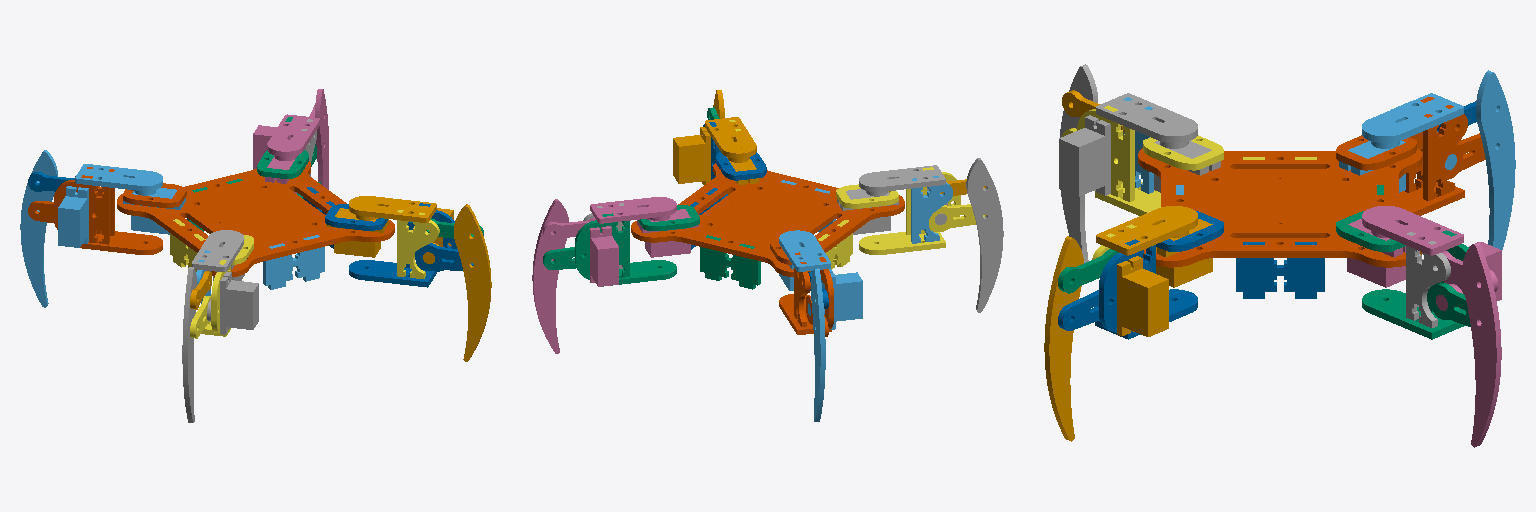
--- What the picture shows (computed from the rendered views, not written in the file) ---
The picture shows the robot from 3 angles, left to right: view 1: azimuth 30°, elevation 25°; view 2: azimuth 150°, elevation 25°; view 3: azimuth 270°, elevation 25°; orthographic projection.
Robot: quadruped — 46 links, 45 joints (24 continuous, 21 fixed); root link base_link; default pose: all joints at 0.
Links seen in each view (by area): view 1: body_top_plate_v11, leg_rev_v13, leg_rev_v14, servo_motor_v16, body_spacer_v11, servo_motor_v18, leg_top_pivot_plate_v14, leg_top_pivot_plate_v13, leg_parallel_plate_v13, leg_servo_mount_v14, leg_rev_v12, leg_top_pivot_plate_v11 (+14 smaller); view 2: body_top_plate_v11, leg_rev_v12, leg_rev_v11, servo_motor_v17, body_spacer_v12, leg_rev_v14, servo_motor_v15, leg_top_pivot_plate_v11, leg_top_pivot_plate_v12, leg_parallel_plate_v12, leg_servo_mount_v11, servo_motor_v18 (+15 smaller); view 3: body_top_plate_v11, leg_rev_v11, leg_rev_v14, leg_rev_v13, servo_motor_v16, servo_motor_v17, body_spacer_v14, leg_top_pivot_plate_v11, leg_top_pivot_plate_v13, leg_top_pivot_plate_v14, leg_top_pivot_plate_v12, leg_parallel_plate_v11 (+24 smaller).
Boxes of the visible links, x1,y1,x2,y2 form: body_top_plate_v11: (117, 161, 394, 276); leg_rev_v13: (454, 204, 491, 361); leg_rev_v14: (20, 150, 57, 307); servo_motor_v16: (207, 272, 258, 334); body_spacer_v11: (263, 235, 324, 289); servo_motor_v18: (58, 186, 88, 247); leg_top_pivot_plate_v14: (75, 164, 162, 190); leg_top_pivot_plate_v13: (349, 196, 436, 222); leg_parallel_plate_v13: (397, 210, 439, 278); leg_servo_mount_v14: (54, 175, 109, 244); leg_rev_v12: (182, 267, 196, 422); leg_top_pivot_plate_v11: (267, 114, 319, 156); body_top_plate_v11: (631, 163, 904, 276); leg_rev_v12: (966, 158, 1003, 312); leg_rev_v11: (532, 199, 568, 353); servo_motor_v17: (673, 127, 710, 184); body_spacer_v12: (700, 235, 760, 289); leg_rev_v14: (811, 268, 825, 421); servo_motor_v15: (590, 226, 618, 286); leg_top_pivot_plate_v11: (590, 197, 676, 223); leg_top_pivot_plate_v12: (859, 165, 945, 191); leg_parallel_plate_v12: (911, 176, 952, 243); leg_servo_mount_v11: (575, 213, 629, 279); servo_motor_v18: (808, 269, 862, 329); body_top_plate_v11: (1138, 148, 1421, 267); leg_rev_v11: (1462, 242, 1501, 447); leg_rev_v14: (1476, 70, 1515, 249); leg_rev_v13: (1044, 236, 1083, 441); servo_motor_v16: (1059, 115, 1110, 196); servo_motor_v17: (1117, 256, 1168, 336); body_spacer_v14: (1236, 242, 1324, 298); leg_top_pivot_plate_v11: (1362, 206, 1463, 255); leg_top_pivot_plate_v13: (1096, 206, 1197, 255); leg_top_pivot_plate_v14: (1362, 93, 1463, 142); leg_top_pivot_plate_v12: (1096, 93, 1197, 142); leg_parallel_plate_v11: (1406, 232, 1450, 327).
Size in the robot's own frame: 0.2024 by 0.2023 by 0.0962 metres.
Meshes: 46 distinct files referenced, 45 mesh visuals loaded (45 binary STL); not drawn: 1 (reference not matched to a file when rendering).

The robot description file, URDF, robot "quadruped":
<?xml version="1.0" ?>
<robot name="quadruped">

<material name="silver">
  <color rgba="0.700 0.700 0.700 1.000"/>
</material>

<link name="base_link">
  <inertial>
    <origin rpy="0 0 0" xyz="9.059146598001685e-07 0.0015934023756066099 0.049996155576494214"/>
    <mass value="0.1660035395213305"/>
    <inertia ixx="0.00025709826617585223" ixy="4.218846787590979e-09" ixz="1.879354351720479e-20" iyy="0.0002571008959510167" iyz="-3.5575383784680614e-20" izz="0.0005139180584769373"/>
  </inertial>
  <visual>
    <origin rpy="0 0 0" xyz="0 0 0"/>
    <geometry>
      <mesh filename="meshes/base_link.stl" scale="0.001 0.001 0.001"/>
    </geometry>
    <material name="silver"/>
    <material/>
  </visual>
  <collision>
    <origin rpy="0 0 0" xyz="0 0 0"/>
    <geometry>
      <mesh filename="meshes/base_link.stl" scale="0.001 0.001 0.001"/>
    </geometry>
  </collision>
</link>

<link name="body_spacer_v11">
  <inertial>
    <origin rpy="0 0 0" xyz="-2.3037127760971997e-17 3.4442350579921843e-07 0.0019124056524901095"/>
    <mass value="0.01987438429408557"/>
    <inertia ixx="9.045460492552543e-07" ixy="1.187813172238301e-22" ixz="3.208094714967838e-22" iyy="3.5199940199070806e-06" iyz="1.3552527156068805e-20" izz="2.6491024456185857e-06"/>
  </inertial>
  <visual>
    <origin rpy="0 0 0" xyz="0.0 0.041434 -0.05924"/>
    <geometry>
      <mesh filename="meshes/body_spacer_v11.stl" scale="0.001 0.001 0.001"/>
    </geometry>
    <material name="silver"/>
    <material/>
  </visual>
  <collision>
    <origin rpy="0 0 0" xyz="0.0 0.041434 -0.05924"/>
    <geometry>
      <mesh filename="meshes/body_spacer_v11.stl" scale="0.001 0.001 0.001"/>
    </geometry>
  </collision>
</link>

<link name="body_spacer_v12">
  <inertial>
    <origin rpy="0 0 0" xyz="-1.762479051592436e-17 0.08606284442350577 0.0019124056524901373"/>
    <mass value="0.01987438429408557"/>
    <inertia ixx="9.045460492552407e-07" ixy="1.1536192923691965e-22" ixz="1.9841293516984235e-22" iyy="3.5199940199070806e-06" iyz="6.776263578034403e-21" izz="2.649102445618572e-06"/>
  </inertial>
  <visual>
    <origin rpy="0 0 0" xyz="0.0 0.041434 -0.05924"/>
    <geometry>
      <mesh filename="meshes/body_spacer_v12.stl" scale="0.001 0.001 0.001"/>
    </geometry>
    <material name="silver"/>
    <material/>
  </visual>
  <collision>
    <origin rpy="0 0 0" xyz="0.0 0.041434 -0.05924"/>
    <geometry>
      <mesh filename="meshes/body_spacer_v12.stl" scale="0.001 0.001 0.001"/>
    </geometry>
  </collision>
</link>

<link name="body_spacer_v13">
  <inertial>
    <origin rpy="0 0 0" xyz="-0.04303125000000001 0.04303159442350578 0.0019124056524901165"/>
    <mass value="0.01987438429408557"/>
    <inertia ixx="3.5199940199070806e-06" ixy="2.117582368135751e-22" ixz="-6.776263578034403e-21" iyy="9.045460492552678e-07" iyz="-1.2705494208814505e-21" izz="2.649102445618572e-06"/>
  </inertial>
  <visual>
    <origin rpy="0 0 0" xyz="0.0 0.041434 -0.05924"/>
    <geometry>
      <mesh filename="meshes/body_spacer_v13.stl" scale="0.001 0.001 0.001"/>
    </geometry>
    <material name="silver"/>
    <material/>
  </visual>
  <collision>
    <origin rpy="0 0 0" xyz="0.0 0.041434 -0.05924"/>
    <geometry>
      <mesh filename="meshes/body_spacer_v13.stl" scale="0.001 0.001 0.001"/>
    </geometry>
  </collision>
</link>

<link name="body_spacer_v14">
  <inertial>
    <origin rpy="0 0 0" xyz="0.04303124999999997 0.04303159442350577 0.0019124056524901165"/>
    <mass value="0.01987438429408557"/>
    <inertia ixx="3.5199940199070806e-06" ixy="4.235164736271502e-22" ixz="0.0" iyy="9.045460492552543e-07" iyz="-1.2705494208814505e-21" izz="2.6491024456185653e-06"/>
  </inertial>
  <visual>
    <origin rpy="0 0 0" xyz="0.0 0.041434 -0.05924"/>
    <geometry>
      <mesh filename="meshes/body_spacer_v14.stl" scale="0.001 0.001 0.001"/>
    </geometry>
    <material name="silver"/>
    <material/>
  </visual>
  <collision>
    <origin rpy="0 0 0" xyz="0.0 0.041434 -0.05924"/>
    <geometry>
      <mesh filename="meshes/body_spacer_v14.stl" scale="0.001 0.001 0.001"/>
    </geometry>
  </collision>
</link>

<link name="body_top_plate_v11">
  <inertial>
    <origin rpy="0 0 0" xyz="-6.217287019304255e-06 -7.919011395336392e-07 -0.0015933444235057687"/>
    <mass value="0.2442521638475155"/>
    <inertia ixx="0.00024636058368875027" ixy="-1.5462840425163707e-08" ixz="3.801060350803673e-20" iyy="0.00023570693205579888" iyz="-2.0328790734103208e-20" izz="0.0004816539090530351"/>
  </inertial>
  <visual>
    <origin rpy="0 0 0" xyz="1e-05 -0.001603 -0.073902"/>
    <geometry>
      <mesh filename="meshes/body_top_plate_v11.stl" scale="0.001 0.001 0.001"/>
    </geometry>
    <material name="silver"/>
    <material/>
  </visual>
  <collision>
    <origin rpy="0 0 0" xyz="1e-05 -0.001603 -0.073902"/>
    <geometry>
      <mesh filename="meshes/body_top_plate_v11.stl" scale="0.001 0.001 0.001"/>
    </geometry>
  </collision>
</link>

<link name="servo_motor_v11">
  <inertial>
    <origin rpy="0 0 0" xyz="-0.0034453069163115357 -0.003444709272821242 -0.017291510897469234"/>
    <mass value="0.008039754705757893"/>
    <inertia ixx="6.933505671789865e-07" ixy="-1.5816887278955772e-07" ixz="-3.5143282431257484e-08" iyy="6.933505682155583e-07" iyz="-3.514328063131586e-08" izz="5.198658008256423e-07"/>
  </inertial>
  <visual>
    <origin rpy="0 0 0" xyz="-0.045406 -0.047003 -0.088004"/>
    <geometry>
      <mesh filename="meshes/servo_motor_v11.stl" scale="0.001 0.001 0.001"/>
    </geometry>
    <material name="silver"/>
    <material/>
  </visual>
  <collision>
    <origin rpy="0 0 0" xyz="-0.045406 -0.047003 -0.088004"/>
    <geometry>
      <mesh filename="meshes/servo_motor_v11.stl" scale="0.001 0.001 0.001"/>
    </geometry>
  </collision>
</link>

<link name="servo_motor_v12">
  <inertial>
    <origin rpy="0 0 0" xyz="-0.08736671792043224 -0.08736325662822253 -0.017291510897469248"/>
    <mass value="0.008039754705757893"/>
    <inertia ixx="6.933505671789865e-07" ixy="-1.5816887278954925e-07" ixz="3.5143282431257484e-08" iyy="6.933505682155651e-07" iyz="3.514328063131247e-08" izz="5.198658008256288e-07"/>
  </inertial>
  <visual>
    <origin rpy="0 0 0" xyz="-0.045406 -0.047003 -0.088004"/>
    <geometry>
      <mesh filename="meshes/servo_motor_v12.stl" scale="0.001 0.001 0.001"/>
    </geometry>
    <material name="silver"/>
    <material/>
  </visual>
  <collision>
    <origin rpy="0 0 0" xyz="-0.045406 -0.047003 -0.088004"/>
    <geometry>
      <mesh filename="meshes/servo_motor_v12.stl" scale="0.001 0.001 0.001"/>
    </geometry>
  </collision>
</link>

<link name="servo_motor_v13">
  <inertial>
    <origin rpy="0 0 0" xyz="-0.0034453067361639236 -0.08736610170001957 -0.01729151089746929"/>
    <mass value="0.008039754705757893"/>
    <inertia ixx="6.933505682155583e-07" ixy="1.581688727895594e-07" ixz="-3.514328063131586e-08" iyy="6.933505671789865e-07" iyz="3.514328243126087e-08" izz="5.198658008256423e-07"/>
  </inertial>
  <visual>
    <origin rpy="0 0 0" xyz="-0.045406 -0.047003 -0.088004"/>
    <geometry>
      <mesh filename="meshes/servo_motor_v13.stl" scale="0.001 0.001 0.001"/>
    </geometry>
    <material name="silver"/>
    <material/>
  </visual>
  <collision>
    <origin rpy="0 0 0" xyz="-0.045406 -0.047003 -0.088004"/>
    <geometry>
      <mesh filename="meshes/servo_motor_v13.stl" scale="0.001 0.001 0.001"/>
    </geometry>
  </collision>
</link>

<link name="servo_motor_v14">
  <inertial>
    <origin rpy="0 0 0" xyz="-0.08736671810057986 -0.0035677266622682127 -0.017291510897469248"/>
    <mass value="0.008039754705757893"/>
    <inertia ixx="6.933505682155447e-07" ixy="1.5816887278955433e-07" ixz="3.514328063131586e-08" iyy="6.933505671789865e-07" iyz="-3.5143282431257484e-08" izz="5.198658008256389e-07"/>
  </inertial>
  <visual>
    <origin rpy="0 0 0" xyz="-0.045406 -0.047003 -0.088004"/>
    <geometry>
      <mesh filename="meshes/servo_motor_v14.stl" scale="0.001 0.001 0.001"/>
    </geometry>
    <material name="silver"/>
    <material/>
  </visual>
  <collision>
    <origin rpy="0 0 0" xyz="-0.045406 -0.047003 -0.088004"/>
    <geometry>
      <mesh filename="meshes/servo_motor_v14.stl" scale="0.001 0.001 0.001"/>
    </geometry>
  </collision>
</link>

<link name="leg_servo_retainer_v11">
  <inertial>
    <origin rpy="0 0 0" xyz="0.007924108380789864 0.007923419580222718 -3.4442350579921843e-07"/>
    <mass value="0.011735752466802122"/>
    <inertia ixx="1.0587162227223e-06" ixy="-2.4853849465264854e-07" ixz="-6.776263578034403e-21" iyy="1.0584789299731293e-06" iyz="0.0" izz="2.0973223062330845e-06"/>
  </inertial>
  <visual>
    <origin rpy="0 0 0" xyz="-0.033325 -0.034922 -0.078684"/>
    <geometry>
      <mesh filename="meshes/leg_servo_retainer_v11.stl" scale="0.001 0.001 0.001"/>
    </geometry>
    <material name="silver"/>
    <material/>
  </visual>
  <collision>
    <origin rpy="0 0 0" xyz="-0.033325 -0.034922 -0.078684"/>
    <geometry>
      <mesh filename="meshes/leg_servo_retainer_v11.stl" scale="0.001 0.001 0.001"/>
    </geometry>
  </collision>
</link>

<link name="leg_servo_retainer_v12">
  <inertial>
    <origin rpy="0 0 0" xyz="-0.07457413321753362 -0.07456938548126654 -3.444235058408518e-07"/>
    <mass value="0.011735752466802122"/>
    <inertia ixx="1.0587162227223136e-06" ixy="-2.485384946526519e-07" ixz="0.0" iyy="1.0584789299731293e-06" iyz="-6.776263578034403e-21" izz="2.0973223062330845e-06"/>
  </inertial>
  <visual>
    <origin rpy="0 0 0" xyz="-0.033325 -0.034922 -0.078684"/>
    <geometry>
      <mesh filename="meshes/leg_servo_retainer_v12.stl" scale="0.001 0.001 0.001"/>
    </geometry>
    <material name="silver"/>
    <material/>
  </visual>
  <collision>
    <origin rpy="0 0 0" xyz="-0.033325 -0.034922 -0.078684"/>
    <geometry>
      <mesh filename="meshes/leg_servo_retainer_v12.stl" scale="0.001 0.001 0.001"/>
    </geometry>
  </collision>
</link>

<link name="leg_servo_retainer_v13">
  <inertial>
    <origin rpy="0 0 0" xyz="0.007922822116880023 -0.07457351699712099 -3.444235058547296e-07"/>
    <mass value="0.011735752466802122"/>
    <inertia ixx="1.0584789299731428e-06" ixy="2.485384946526519e-07" ixz="0.0" iyy="1.0587162227222865e-06" iyz="-6.776263578034403e-21" izz="2.0973223062330912e-06"/>
  </inertial>
  <visual>
    <origin rpy="0 0 0" xyz="-0.033325 -0.034922 -0.078684"/>
    <geometry>
      <mesh filename="meshes/leg_servo_retainer_v13.stl" scale="0.001 0.001 0.001"/>
    </geometry>
    <material name="silver"/>
    <material/>
  </visual>
  <collision>
    <origin rpy="0 0 0" xyz="-0.033325 -0.034922 -0.078684"/>
    <geometry>
      <mesh filename="meshes/leg_servo_retainer_v13.stl" scale="0.001 0.001 0.001"/>
    </geometry>
  </collision>
</link>

<link name="leg_servo_retainer_v14">
  <inertial>
    <origin rpy="0 0 0" xyz="-0.07457284695362379 0.007801688634833152 -3.444235058130962e-07"/>
    <mass value="0.011735752466802122"/>
    <inertia ixx="1.0584789299731157e-06" ixy="2.4853849465264515e-07" ixz="0.0" iyy="1.0587162227222594e-06" iyz="0.0" izz="2.0973223062330777e-06"/>
  </inertial>
  <visual>
    <origin rpy="0 0 0" xyz="-0.033325 -0.034922 -0.078684"/>
    <geometry>
      <mesh filename="meshes/leg_servo_retainer_v14.stl" scale="0.001 0.001 0.001"/>
    </geometry>
    <material name="silver"/>
    <material/>
  </visual>
  <collision>
    <origin rpy="0 0 0" xyz="-0.033325 -0.034922 -0.078684"/>
    <geometry>
      <mesh filename="meshes/leg_servo_retainer_v14.stl" scale="0.001 0.001 0.001"/>
    </geometry>
  </collision>
</link>

<link name="leg_top_pivot_plate_v11">
  <inertial>
    <origin rpy="0 0 0" xyz="0.010648424399168653 0.010577698071700968 -0.0015938444235058108"/>
    <mass value="0.020723046160568363"/>
    <inertia ixx="2.208794909615877e-06" ixy="-1.4903944877974097e-06" ixz="-2.710505431213761e-20" iyy="2.2591948027366653e-06" iyz="-1.3552527156068805e-20" izz="4.432898147857994e-06"/>
  </inertial>
  <visual>
    <origin rpy="0 0 0" xyz="-0.045406 -0.047003 -0.088004"/>
    <geometry>
      <mesh filename="meshes/leg_top_pivot_plate_v11.stl" scale="0.001 0.001 0.001"/>
    </geometry>
    <material name="silver"/>
    <material/>
  </visual>
  <collision>
    <origin rpy="0 0 0" xyz="-0.045406 -0.047003 -0.088004"/>
    <geometry>
      <mesh filename="meshes/leg_top_pivot_plate_v11.stl" scale="0.001 0.001 0.001"/>
    </geometry>
  </collision>
</link>

<link name="leg_top_pivot_plate_v12">
  <inertial>
    <origin rpy="0 0 0" xyz="-0.10146044923591255 -0.1013856639727447 -0.0015938444235058524"/>
    <mass value="0.020723046160568363"/>
    <inertia ixx="2.2087949096158226e-06" ixy="-1.4903944877974097e-06" ixz="-2.710505431213761e-20" iyy="2.259194802736557e-06" iyz="-1.3552527156068805e-20" izz="4.432898147857967e-06"/>
  </inertial>
  <visual>
    <origin rpy="0 0 0" xyz="-0.045406 -0.047003 -0.088004"/>
    <geometry>
      <mesh filename="meshes/leg_top_pivot_plate_v12.stl" scale="0.001 0.001 0.001"/>
    </geometry>
    <material name="silver"/>
    <material/>
  </visual>
  <collision>
    <origin rpy="0 0 0" xyz="-0.045406 -0.047003 -0.088004"/>
    <geometry>
      <mesh filename="meshes/leg_top_pivot_plate_v12.stl" scale="0.001 0.001 0.001"/>
    </geometry>
  </collision>
</link>

<link name="leg_top_pivot_plate_v13">
  <inertial>
    <origin rpy="0 0 0" xyz="0.010577100608358335 -0.10145983301549982 -0.001593844423505894"/>
    <mass value="0.020723046160568363"/>
    <inertia ixx="2.2591948027366653e-06" ixy="1.4903944877974233e-06" ixz="0.0" iyy="2.208794909615931e-06" iyz="0.0" izz="4.432898147857967e-06"/>
  </inertial>
  <visual>
    <origin rpy="0 0 0" xyz="-0.045406 -0.047003 -0.088004"/>
    <geometry>
      <mesh filename="meshes/leg_top_pivot_plate_v13.stl" scale="0.001 0.001 0.001"/>
    </geometry>
    <material name="silver"/>
    <material/>
  </visual>
  <collision>
    <origin rpy="0 0 0" xyz="-0.045406 -0.047003 -0.088004"/>
    <geometry>
      <mesh filename="meshes/leg_top_pivot_plate_v13.stl" scale="0.001 0.001 0.001"/>
    </geometry>
  </collision>
</link>

<link name="leg_top_pivot_plate_v14">
  <inertial>
    <origin rpy="0 0 0" xyz="-0.10138912544510212 0.010526004653212018 -0.0015938444235058247"/>
    <mass value="0.020723046160568363"/>
    <inertia ixx="2.2591948027367195e-06" ixy="1.4903944877974233e-06" ixz="2.710505431213761e-20" iyy="2.208794909615931e-06" iyz="0.0" izz="4.432898147857994e-06"/>
  </inertial>
  <visual>
    <origin rpy="0 0 0" xyz="-0.045406 -0.047003 -0.088004"/>
    <geometry>
      <mesh filename="meshes/leg_top_pivot_plate_v14.stl" scale="0.001 0.001 0.001"/>
    </geometry>
    <material name="silver"/>
    <material/>
  </visual>
  <collision>
    <origin rpy="0 0 0" xyz="-0.045406 -0.047003 -0.088004"/>
    <geometry>
      <mesh filename="meshes/leg_top_pivot_plate_v14.stl" scale="0.001 0.001 0.001"/>
    </geometry>
  </collision>
</link>

<link name="leg_servo_mount_v11">
  <inertial>
    <origin rpy="0 0 0" xyz="0.006427091482037052 0.006426612462751641 -0.009351515125044133"/>
    <mass value="0.018978192167657257"/>
    <inertia ixx="3.4099288150504596e-06" ixy="-8.932533906415378e-07" ixz="-2.5996070057598855e-08" iyy="3.4099288150504867e-06" iyz="-2.599607005762596e-08" izz="1.818643680910739e-06"/>
  </inertial>
  <visual>
    <origin rpy="0 0 0" xyz="-0.058289 -0.069083 -0.076529"/>
    <geometry>
      <mesh filename="meshes/leg_servo_mount_v11.stl" scale="0.001 0.001 0.001"/>
    </geometry>
    <material name="silver"/>
    <material/>
  </visual>
  <collision>
    <origin rpy="0 0 0" xyz="-0.058289 -0.069083 -0.076529"/>
    <geometry>
      <mesh filename="meshes/leg_servo_mount_v11.stl" scale="0.001 0.001 0.001"/>
    </geometry>
  </collision>
</link>

<link name="leg_servo_mount_v12">
  <inertial>
    <origin rpy="0 0 0" xyz="-0.12300511631878094 -0.14139457836379538 -0.009351515125044202"/>
    <mass value="0.018978192167657257"/>
    <inertia ixx="3.4099288150504867e-06" ixy="-8.932533906415378e-07" ixz="2.5996070057612407e-08" iyy="3.4099288150504596e-06" iyz="2.599607005762596e-08" izz="1.818643680910739e-06"/>
  </inertial>
  <visual>
    <origin rpy="0 0 0" xyz="-0.058289 -0.069083 -0.076529"/>
    <geometry>
      <mesh filename="meshes/leg_servo_mount_v12.stl" scale="0.001 0.001 0.001"/>
    </geometry>
    <material name="silver"/>
    <material/>
  </visual>
  <collision>
    <origin rpy="0 0 0" xyz="-0.058289 -0.069083 -0.076529"/>
    <geometry>
      <mesh filename="meshes/leg_servo_mount_v12.stl" scale="0.001 0.001 0.001"/>
    </geometry>
  </collision>
</link>

<link name="leg_servo_mount_v13">
  <inertial>
    <origin rpy="0 0 0" xyz="0.015623014999408984 -0.13220150009836815 -0.009351515125044257"/>
    <mass value="0.018978192167657257"/>
    <inertia ixx="3.4099288150504325e-06" ixy="8.932533906415242e-07" ixz="-2.5996070057612407e-08" iyy="3.4099288150504596e-06" iyz="2.5996070057612407e-08" izz="1.818643680910739e-06"/>
  </inertial>
  <visual>
    <origin rpy="0 0 0" xyz="-0.058289 -0.069083 -0.076529"/>
    <geometry>
      <mesh filename="meshes/leg_servo_mount_v13.stl" scale="0.001 0.001 0.001"/>
    </geometry>
    <material name="silver"/>
    <material/>
  </visual>
  <collision>
    <origin rpy="0 0 0" xyz="-0.058289 -0.069083 -0.076529"/>
    <geometry>
      <mesh filename="meshes/leg_servo_mount_v13.stl" scale="0.001 0.001 0.001"/>
    </geometry>
  </collision>
</link>

<link name="leg_servo_mount_v14">
  <inertial>
    <origin rpy="0 0 0" xyz="-0.132201039836153 -0.002892328263919511 -0.009351515125044133"/>
    <mass value="0.018978192167657257"/>
    <inertia ixx="3.4099288150504867e-06" ixy="8.932533906415242e-07" ixz="2.5996070057639513e-08" iyy="3.4099288150504867e-06" iyz="-2.5996070057639513e-08" izz="1.818643680910712e-06"/>
  </inertial>
  <visual>
    <origin rpy="0 0 0" xyz="-0.058289 -0.069083 -0.076529"/>
    <geometry>
      <mesh filename="meshes/leg_servo_mount_v14.stl" scale="0.001 0.001 0.001"/>
    </geometry>
    <material name="silver"/>
    <material/>
  </visual>
  <collision>
    <origin rpy="0 0 0" xyz="-0.058289 -0.069083 -0.076529"/>
    <geometry>
      <mesh filename="meshes/leg_servo_mount_v14.stl" scale="0.001 0.001 0.001"/>
    </geometry>
  </collision>
</link>

<link name="servo_motor_v15">
  <inertial>
    <origin rpy="0 0 0" xyz="0.027946655456124396 0.04841610817225183 -0.013934864453551216"/>
    <mass value="0.008039754705757893"/>
    <inertia ixx="6.856926219289921e-07" ixy="1.658268198306015e-07" ixz="3.5143281164800927e-08" iyy="6.856926193835023e-07" iyz="-3.5143281897775805e-08" izz="5.351816949077299e-07"/>
  </inertial>
  <visual>
    <origin rpy="0 0 0" xyz="-0.033325 -0.034922 -0.078684"/>
    <geometry>
      <mesh filename="meshes/servo_motor_v15.stl" scale="0.001 0.001 0.001"/>
    </geometry>
    <material name="silver"/>
    <material/>
  </visual>
  <collision>
    <origin rpy="0 0 0" xyz="-0.033325 -0.034922 -0.078684"/>
    <geometry>
      <mesh filename="meshes/servo_motor_v15.stl" scale="0.001 0.001 0.001"/>
    </geometry>
  </collision>
</link>

<link name="servo_motor_v16">
  <inertial>
    <origin rpy="0 0 0" xyz="-0.09459668029286844 -0.11506207407329555 -0.013934864453551313"/>
    <mass value="0.008039754705757893"/>
    <inertia ixx="6.856926219289921e-07" ixy="1.6582681983059474e-07" ixz="-3.5143281164800927e-08" iyy="6.856926193834752e-07" iyz="3.514328189776225e-08" izz="5.351816949077164e-07"/>
  </inertial>
  <visual>
    <origin rpy="0 0 0" xyz="-0.033325 -0.034922 -0.078684"/>
    <geometry>
      <mesh filename="meshes/servo_motor_v16.stl" scale="0.001 0.001 0.001"/>
    </geometry>
    <material name="silver"/>
    <material/>
  </visual>
  <collision>
    <origin rpy="0 0 0" xyz="-0.033325 -0.034922 -0.078684"/>
    <geometry>
      <mesh filename="meshes/servo_motor_v16.stl" scale="0.001 0.001 0.001"/>
    </geometry>
  </collision>
</link>

<link name="servo_motor_v17">
  <inertial>
    <origin rpy="0 0 0" xyz="0.048415510708909044 -0.09459606407245555 -0.013934864453551354"/>
    <mass value="0.008039754705757893"/>
    <inertia ixx="6.856926193835023e-07" ixy="-1.658268198306015e-07" ixz="-3.514328189776225e-08" iyy="6.85692621928965e-07" iyz="-3.5143281164800927e-08" izz="5.351816949077028e-07"/>
  </inertial>
  <visual>
    <origin rpy="0 0 0" xyz="-0.033325 -0.034922 -0.078684"/>
    <geometry>
      <mesh filename="meshes/servo_motor_v17.stl" scale="0.001 0.001 0.001"/>
    </geometry>
    <material name="silver"/>
    <material/>
  </visual>
  <collision>
    <origin rpy="0 0 0" xyz="-0.033325 -0.034922 -0.078684"/>
    <geometry>
      <mesh filename="meshes/servo_motor_v17.stl" scale="0.001 0.001 0.001"/>
    </geometry>
  </collision>
</link>

<link name="servo_motor_v18">
  <inertial>
    <origin rpy="0 0 0" xyz="-0.11506553554565327 0.027824235710167892 -0.013934864453551118"/>
    <mass value="0.008039754705757893"/>
    <inertia ixx="6.856926193834752e-07" ixy="-1.658268198306015e-07" ixz="3.514328189778258e-08" iyy="6.856926219289921e-07" iyz="3.5143281164800927e-08" izz="5.351816949077164e-07"/>
  </inertial>
  <visual>
    <origin rpy="0 0 0" xyz="-0.033325 -0.034922 -0.078684"/>
    <geometry>
      <mesh filename="meshes/servo_motor_v18.stl" scale="0.001 0.001 0.001"/>
    </geometry>
    <material name="silver"/>
    <material/>
  </visual>
  <collision>
    <origin rpy="0 0 0" xyz="-0.033325 -0.034922 -0.078684"/>
    <geometry>
      <mesh filename="meshes/servo_motor_v18.stl" scale="0.001 0.001 0.001"/>
    </geometry>
  </collision>
</link>

<link name="leg_servo_arm_v11">
  <inertial>
    <origin rpy="0 0 0" xyz="0.006854663369280534 0.009109263260319467 4.051724359702136e-07"/>
    <mass value="0.01005919143698447"/>
    <inertia ixx="7.37904947339249e-07" ixy="-5.760670437510195e-07" ixz="8.610598128608316e-17" iyy="7.379049473392083e-07" iyz="8.609242875892709e-17" izz="1.1691679136267982e-06"/>
  </inertial>
  <visual>
    <origin rpy="0 0 0" xyz="-0.073499 -0.071111 -0.059877"/>
    <geometry>
      <mesh filename="meshes/leg_servo_arm_v11.stl" scale="0.001 0.001 0.001"/>
    </geometry>
    <material name="silver"/>
    <material/>
  </visual>
  <collision>
    <origin rpy="0 0 0" xyz="-0.073499 -0.071111 -0.059877"/>
    <geometry>
      <mesh filename="meshes/leg_servo_arm_v11.stl" scale="0.001 0.001 0.001"/>
    </geometry>
  </collision>
</link>

<link name="leg_servo_arm_v12">
  <inertial>
    <origin rpy="0 0 0" xyz="-0.1515986882060246 -0.15038722916136313 4.051727157394769e-07"/>
    <mass value="0.01005919143698447"/>
    <inertia ixx="7.379049473392219e-07" ixy="-5.76067043751006e-07" ixz="8.609242875892709e-17" iyy="7.379049473392219e-07" iyz="8.609920502250512e-17" izz="1.169167913626771e-06"/>
  </inertial>
  <visual>
    <origin rpy="0 0 0" xyz="-0.071245 -0.073365 -0.059877"/>
    <geometry>
      <mesh filename="meshes/leg_servo_arm_v12.stl" scale="0.001 0.001 0.001"/>
    </geometry>
    <material name="silver"/>
    <material/>
  </visual>
  <collision>
    <origin rpy="0 0 0" xyz="-0.071245 -0.073365 -0.059877"/>
    <geometry>
      <mesh filename="meshes/leg_servo_arm_v12.stl" scale="0.001 0.001 0.001"/>
    </geometry>
  </collision>
</link>

<link name="leg_servo_arm_v13">
  <inertial>
    <origin rpy="0 0 0" xyz="0.0073776657969769205 -0.1521210719856115 4.051727155868212e-07"/>
    <mass value="0.01005919143698447"/>
    <inertia ixx="7.379049473391948e-07" ixy="5.760670437510195e-07" ixz="-8.609920502250512e-17" iyy="7.37904947339249e-07" iyz="8.609920502250512e-17" izz="1.169167913626771e-06"/>
  </inertial>
  <visual>
    <origin rpy="0 0 0" xyz="-0.071245 -0.073365 -0.059877"/>
    <geometry>
      <mesh filename="meshes/leg_servo_arm_v13.stl" scale="0.001 0.001 0.001"/>
    </geometry>
    <material name="silver"/>
    <material/>
  </visual>
  <collision>
    <origin rpy="0 0 0" xyz="-0.071245 -0.073365 -0.059877"/>
    <geometry>
      <mesh filename="meshes/leg_servo_arm_v13.stl" scale="0.001 0.001 0.001"/>
    </geometry>
  </collision>
</link>

<link name="leg_servo_arm_v14">
  <inertial>
    <origin rpy="0 0 0" xyz="-0.15212169063372105 0.01071724362332406 4.0517243608817477e-07"/>
    <mass value="0.01005919143698447"/>
    <inertia ixx="7.379049473392083e-07" ixy="5.760670437510195e-07" ixz="-8.609920502250512e-17" iyy="7.379049473392219e-07" iyz="8.609920502250512e-17" izz="1.169167913626771e-06"/>
  </inertial>
  <visual>
    <origin rpy="0 0 0" xyz="-0.073499 -0.071111 -0.059877"/>
    <geometry>
      <mesh filename="meshes/leg_servo_arm_v14.stl" scale="0.001 0.001 0.001"/>
    </geometry>
    <material name="silver"/>
    <material/>
  </visual>
  <collision>
    <origin rpy="0 0 0" xyz="-0.073499 -0.071111 -0.059877"/>
    <geometry>
      <mesh filename="meshes/leg_servo_arm_v14.stl" scale="0.001 0.001 0.001"/>
    </geometry>
  </collision>
</link>

<link name="leg_rev_v11">
  <inertial>
    <origin rpy="0 0 0" xyz="0.0017515473433343115 -0.0003754399481460391 -0.0070623052238462936"/>
    <mass value="0.02607369115545735"/>
    <inertia ixx="1.5004588508372942e-05" ixy="-2.7879896393143166e-07" ixz="6.744760153939999e-07" iyy="1.5004588508373104e-05" iyz="6.744760153939863e-07" izz="5.96943480288205e-07"/>
  </inertial>
  <visual>
    <origin rpy="0 0 0" xyz="-0.09153 -0.089142 -0.059877"/>
    <geometry>
      <mesh filename="meshes/leg_rev_v11.stl" scale="0.001 0.001 0.001"/>
    </geometry>
    <material name="silver"/>
    <material/>
  </visual>
  <collision>
    <origin rpy="0 0 0" xyz="-0.09153 -0.089142 -0.059877"/>
    <geometry>
      <mesh filename="meshes/leg_rev_v11.stl" scale="0.001 0.001 0.001"/>
    </geometry>
  </collision>
</link>

<link name="leg_rev_v12">
  <inertial>
    <origin rpy="0 0 0" xyz="-0.1848115721800784 -0.1747105259528976 -0.0070623052238461825"/>
    <mass value="0.02607369115545735"/>
    <inertia ixx="1.5004588508372942e-05" ixy="-2.7879896393148587e-07" ixz="-6.744760153939728e-07" iyy="1.5004588508373104e-05" iyz="-6.744760153939592e-07" izz="5.96943480288205e-07"/>
  </inertial>
  <visual>
    <origin rpy="0 0 0" xyz="-0.09153 -0.089142 -0.059877"/>
    <geometry>
      <mesh filename="meshes/leg_rev_v12.stl" scale="0.001 0.001 0.001"/>
    </geometry>
    <material name="silver"/>
    <material/>
  </visual>
  <collision>
    <origin rpy="0 0 0" xyz="-0.09153 -0.089142 -0.059877"/>
    <geometry>
      <mesh filename="meshes/leg_rev_v12.stl" scale="0.001 0.001 0.001"/>
    </geometry>
  </collision>
</link>

<link name="leg_rev_v13">
  <inertial>
    <origin rpy="0 0 0" xyz="-0.004361037411488508 -0.18082595595966508 -0.0070623052238464185"/>
    <mass value="0.02607369115545735"/>
    <inertia ixx="1.5004588508373213e-05" ixy="2.7879896393145876e-07" ixz="6.744760153938508e-07" iyy="1.5004588508372942e-05" iyz="-6.744760153938915e-07" izz="5.969434802882592e-07"/>
  </inertial>
  <visual>
    <origin rpy="0 0 0" xyz="-0.09153 -0.089142 -0.059877"/>
    <geometry>
      <mesh filename="meshes/leg_rev_v13.stl" scale="0.001 0.001 0.001"/>
    </geometry>
    <material name="silver"/>
    <material/>
  </visual>
  <collision>
    <origin rpy="0 0 0" xyz="-0.09153 -0.089142 -0.059877"/>
    <geometry>
      <mesh filename="meshes/leg_rev_v13.stl" scale="0.001 0.001 0.001"/>
    </geometry>
  </collision>
</link>

<link name="leg_rev_v14">
  <inertial>
    <origin rpy="0 0 0" xyz="-0.17869898742525542 0.005614127597377852 -0.007062305223845974"/>
    <mass value="0.02607369115545735"/>
    <inertia ixx="1.5004588508373267e-05" ixy="2.787989639315672e-07" ixz="-6.74476015394027e-07" iyy="1.5004588508372887e-05" iyz="6.744760153939457e-07" izz="5.969434802883134e-07"/>
  </inertial>
  <visual>
    <origin rpy="0 0 0" xyz="-0.09153 -0.089142 -0.059877"/>
    <geometry>
      <mesh filename="meshes/leg_rev_v14.stl" scale="0.001 0.001 0.001"/>
    </geometry>
    <material name="silver"/>
    <material/>
  </visual>
  <collision>
    <origin rpy="0 0 0" xyz="-0.09153 -0.089142 -0.059877"/>
    <geometry>
      <mesh filename="meshes/leg_rev_v14.stl" scale="0.001 0.001 0.001"/>
    </geometry>
  </collision>
</link>

<link name="bottom_pivot_plate_v11">
  <inertial>
    <origin rpy="0 0 0" xyz="0.01000675765330758 0.010047118194641713 -0.0015933444235057687"/>
    <mass value="0.02183354723813213"/>
    <inertia ixx="2.3227089177674888e-06" ixy="-1.578481244283238e-06" ixz="-1.3552527156068805e-20" iyy="2.326148215223492e-06" iyz="-6.776263578034403e-21" izz="4.611885091085777e-06"/>
  </inertial>
  <visual>
    <origin rpy="0 0 0" xyz="-0.045406 -0.047003 -0.048402"/>
    <geometry>
      <mesh filename="meshes/bottom_pivot_plate_v11.stl" scale="0.001 0.001 0.001"/>
    </geometry>
    <material name="silver"/>
    <material/>
  </visual>
  <collision>
    <origin rpy="0 0 0" xyz="-0.045406 -0.047003 -0.048402"/>
    <geometry>
      <mesh filename="meshes/bottom_pivot_plate_v11.stl" scale="0.001 0.001 0.001"/>
    </geometry>
  </collision>
</link>

<link name="bottom_pivot_plate_v12">
  <inertial>
    <origin rpy="0 0 0" xyz="-0.10081878249005136 -0.10085508409568551 -0.0015933444235059352"/>
    <mass value="0.02183354723813213"/>
    <inertia ixx="2.3227089177674752e-06" ixy="-1.578481244283211e-06" ixz="-3.3881317890172014e-20" iyy="2.3261482152234784e-06" iyz="-2.710505431213761e-20" izz="4.61188509108575e-06"/>
  </inertial>
  <visual>
    <origin rpy="0 0 0" xyz="-0.045406 -0.047003 -0.048402"/>
    <geometry>
      <mesh filename="meshes/bottom_pivot_plate_v12.stl" scale="0.001 0.001 0.001"/>
    </geometry>
    <material name="silver"/>
    <material/>
  </visual>
  <collision>
    <origin rpy="0 0 0" xyz="-0.045406 -0.047003 -0.048402"/>
    <geometry>
      <mesh filename="meshes/bottom_pivot_plate_v12.stl" scale="0.001 0.001 0.001"/>
    </geometry>
  </collision>
</link>

<link name="bottom_pivot_plate_v13">
  <inertial>
    <origin rpy="0 0 0" xyz="0.010046520731299052 -0.10081816626963866 -0.0015933444235056785"/>
    <mass value="0.02183354723813213"/>
    <inertia ixx="2.3261482152234784e-06" ixy="1.578481244283211e-06" ixz="-2.710505431213761e-20" iyy="2.3227089177675023e-06" iyz="2.710505431213761e-20" izz="4.611885091085723e-06"/>
  </inertial>
  <visual>
    <origin rpy="0 0 0" xyz="-0.045406 -0.047003 -0.048402"/>
    <geometry>
      <mesh filename="meshes/bottom_pivot_plate_v13.stl" scale="0.001 0.001 0.001"/>
    </geometry>
    <material name="silver"/>
    <material/>
  </visual>
  <collision>
    <origin rpy="0 0 0" xyz="-0.045406 -0.047003 -0.048402"/>
    <geometry>
      <mesh filename="meshes/bottom_pivot_plate_v13.stl" scale="0.001 0.001 0.001"/>
    </geometry>
  </collision>
</link>

<link name="bottom_pivot_plate_v14">
  <inertial>
    <origin rpy="0 0 0" xyz="-0.10085854556804302 0.009884337907350833 -0.0015933444235043462"/>
    <mass value="0.02183354723813213"/>
    <inertia ixx="2.326148215223465e-06" ixy="1.5784812442831974e-06" ixz="3.2526065174565133e-19" iyy="2.3227089177674617e-06" iyz="-2.371692252312041e-19" izz="4.61188509108575e-06"/>
  </inertial>
  <visual>
    <origin rpy="0 0 0" xyz="-0.045406 -0.047003 -0.048402"/>
    <geometry>
      <mesh filename="meshes/bottom_pivot_plate_v14.stl" scale="0.001 0.001 0.001"/>
    </geometry>
    <material name="silver"/>
    <material/>
  </visual>
  <collision>
    <origin rpy="0 0 0" xyz="-0.045406 -0.047003 -0.048402"/>
    <geometry>
      <mesh filename="meshes/bottom_pivot_plate_v14.stl" scale="0.001 0.001 0.001"/>
    </geometry>
  </collision>
</link>

<link name="leg_parallel_linkage_v11">
  <inertial>
    <origin rpy="0 0 0" xyz="-0.01014265742637048 -0.007889057535331243 -5.5744720088138355e-05"/>
    <mass value="0.00766074441602388"/>
    <inertia ixx="4.803493674771365e-07" ixy="-4.1813467774842706e-07" ixz="-2.4283040679434157e-09" iyy="4.803493674771907e-07" iyz="-2.428304067950192e-09" izz="8.492417488732034e-07"/>
  </inertial>
  <visual>
    <origin rpy="0 0 0" xyz="-0.09153 -0.089143 -0.077727"/>
    <geometry>
      <mesh filename="meshes/leg_parallel_linkage_v11.stl" scale="0.001 0.001 0.001"/>
    </geometry>
    <material name="silver"/>
    <material/>
  </visual>
  <collision>
    <origin rpy="0 0 0" xyz="-0.09153 -0.089143 -0.077727"/>
    <geometry>
      <mesh filename="meshes/leg_parallel_linkage_v11.stl" scale="0.001 0.001 0.001"/>
    </geometry>
  </collision>
</link>

<link name="leg_parallel_plate_v11">
  <inertial>
    <origin rpy="0 0 0" xyz="-0.004995391768741642 -0.007248720766343711 -0.008862222322955887"/>
    <mass value="0.014417433544657016"/>
    <inertia ixx="2.1697871012962757e-06" ixy="-2.761349788279961e-07" ixz="-1.8802402014866872e-07" iyy="2.1697871012962757e-06" iyz="-1.8802402014865517e-07" izz="5.766838539122889e-07"/>
  </inertial>
  <visual>
    <origin rpy="0 0 0" xyz="-0.074112 -0.070498 -0.077616"/>
    <geometry>
      <mesh filename="meshes/leg_parallel_plate_v11.stl" scale="0.001 0.001 0.001"/>
    </geometry>
    <material name="silver"/>
    <material/>
  </visual>
  <collision>
    <origin rpy="0 0 0" xyz="-0.074112 -0.070498 -0.077616"/>
    <geometry>
      <mesh filename="meshes/leg_parallel_plate_v11.stl" scale="0.001 0.001 0.001"/>
    </geometry>
  </collision>
</link>

<link name="leg_parallel_linkage_v12">
  <inertial>
    <origin rpy="0 0 0" xyz="-0.17066336741037053 -0.1694519083657091 -5.5744719077946425e-05"/>
    <mass value="0.00766074441602388"/>
    <inertia ixx="4.803493674771636e-07" ixy="-4.1813467774843384e-07" ixz="2.4283040679434157e-09" iyy="4.803493674771501e-07" iyz="2.4283040679366394e-09" izz="8.492417488732169e-07"/>
  </inertial>
  <visual>
    <origin rpy="0 0 0" xyz="-0.089276 -0.091396 -0.077727"/>
    <geometry>
      <mesh filename="meshes/leg_parallel_linkage_v12.stl" scale="0.001 0.001 0.001"/>
    </geometry>
    <material name="silver"/>
    <material/>
  </visual>
  <collision>
    <origin rpy="0 0 0" xyz="-0.089276 -0.091396 -0.077727"/>
    <geometry>
      <mesh filename="meshes/leg_parallel_linkage_v12.stl" scale="0.001 0.001 0.001"/>
    </geometry>
  </collision>
</link>

<link name="leg_parallel_plate_v12">
  <inertial>
    <origin rpy="0 0 0" xyz="-0.14322863306800285 -0.13054924513469937 -0.008862222322955901"/>
    <mass value="0.014417433544657016"/>
    <inertia ixx="2.169787101296262e-06" ixy="-2.7613497882801645e-07" ixz="1.8802402014866872e-07" iyy="2.1697871012962486e-06" iyz="1.8802402014866872e-07" izz="5.766838539123024e-07"/>
  </inertial>
  <visual>
    <origin rpy="0 0 0" xyz="-0.074112 -0.070498 -0.077616"/>
    <geometry>
      <mesh filename="meshes/leg_parallel_plate_v12.stl" scale="0.001 0.001 0.001"/>
    </geometry>
    <material name="silver"/>
    <material/>
  </visual>
  <collision>
    <origin rpy="0 0 0" xyz="-0.074112 -0.070498 -0.077616"/>
    <geometry>
      <mesh filename="meshes/leg_parallel_plate_v12.stl" scale="0.001 0.001 0.001"/>
    </geometry>
  </collision>
</link>

<link name="leg_parallel_linkage_v13">
  <inertial>
    <origin rpy="0 0 0" xyz="-0.011873654998673211 -0.16893275118996026 -5.574472008829101e-05"/>
    <mass value="0.00766074441602388"/>
    <inertia ixx="4.803493674771907e-07" ixy="4.181346777484406e-07" ixz="-2.4283040679366394e-09" iyy="4.80349367477123e-07" iyz="2.4283040679366394e-09" izz="8.492417488732305e-07"/>
  </inertial>
  <visual>
    <origin rpy="0 0 0" xyz="-0.09153 -0.089143 -0.077727"/>
    <geometry>
      <mesh filename="meshes/leg_parallel_linkage_v13.stl" scale="0.001 0.001 0.001"/>
    </geometry>
    <material name="silver"/>
    <material/>
  </visual>
  <collision>
    <origin rpy="0 0 0" xyz="-0.09153 -0.089143 -0.077727"/>
    <geometry>
      <mesh filename="meshes/leg_parallel_linkage_v13.stl" scale="0.001 0.001 0.001"/>
    </geometry>
  </collision>
</link>

<link name="leg_parallel_plate_v13">
  <inertial>
    <origin rpy="0 0 0" xyz="-0.012460318229685886 -0.13801701684758927 -0.008862222322955901"/>
    <mass value="0.014417433544657016"/>
    <inertia ixx="2.1697871012962757e-06" ixy="2.7613497882802323e-07" ixz="-1.8802402014868227e-07" iyy="2.1697871012962486e-06" iyz="1.8802402014866872e-07" izz="5.766838539123431e-07"/>
  </inertial>
  <visual>
    <origin rpy="0 0 0" xyz="-0.074112 -0.070498 -0.077616"/>
    <geometry>
      <mesh filename="meshes/leg_parallel_plate_v13.stl" scale="0.001 0.001 0.001"/>
    </geometry>
    <material name="silver"/>
    <material/>
  </visual>
  <collision>
    <origin rpy="0 0 0" xyz="-0.074112 -0.070498 -0.077616"/>
    <geometry>
      <mesh filename="meshes/leg_parallel_plate_v13.stl" scale="0.001 0.001 0.001"/>
    </geometry>
  </collision>
</link>

<link name="leg_parallel_linkage_v14">
  <inertial>
    <origin rpy="0 0 0" xyz="-0.1689323698380672 -0.008534077172330193 -5.574471907779377e-05"/>
    <mass value="0.00766074441602388"/>
    <inertia ixx="4.803493674771772e-07" ixy="4.181346777484474e-07" ixz="2.428304067950192e-09" iyy="4.803493674771365e-07" iyz="-2.4283040679434157e-09" izz="8.492417488732169e-07"/>
  </inertial>
  <visual>
    <origin rpy="0 0 0" xyz="-0.089276 -0.091396 -0.077727"/>
    <geometry>
      <mesh filename="meshes/leg_parallel_linkage_v14.stl" scale="0.001 0.001 0.001"/>
    </geometry>
    <material name="silver"/>
    <material/>
  </visual>
  <collision>
    <origin rpy="0 0 0" xyz="-0.089276 -0.091396 -0.077727"/>
    <geometry>
      <mesh filename="meshes/leg_parallel_linkage_v14.stl" scale="0.001 0.001 0.001"/>
    </geometry>
  </collision>
</link>

<link name="leg_parallel_plate_v14">
  <inertial>
    <origin rpy="0 0 0" xyz="-0.13576370660705767 9.318848530222301e-05 -0.00886222232295586"/>
    <mass value="0.014417433544657016"/>
    <inertia ixx="2.1697871012962486e-06" ixy="2.761349788280097e-07" ixz="1.8802402014866872e-07" iyy="2.16978710129633e-06" iyz="-1.8802402014866872e-07" izz="5.766838539122889e-07"/>
  </inertial>
  <visual>
    <origin rpy="0 0 0" xyz="-0.074112 -0.070498 -0.077616"/>
    <geometry>
      <mesh filename="meshes/leg_parallel_plate_v14.stl" scale="0.001 0.001 0.001"/>
    </geometry>
    <material name="silver"/>
    <material/>
  </visual>
  <collision>
    <origin rpy="0 0 0" xyz="-0.074112 -0.070498 -0.077616"/>
    <geometry>
      <mesh filename="meshes/leg_parallel_plate_v14.stl" scale="0.001 0.001 0.001"/>
    </geometry>
  </collision>
</link>

<joint name="Rigid1" type="fixed">
  <origin rpy="0 0 0" xyz="0.0 -0.041434 0.05924"/>
  <parent link="base_link"/>
  <child link="body_spacer_v11"/>
</joint>

<joint name="Rigid2" type="fixed">
  <origin rpy="0 0 0" xyz="0.0 -0.041434 0.05924"/>
  <parent link="base_link"/>
  <child link="body_spacer_v12"/>
</joint>

<joint name="Rigid3" type="fixed">
  <origin rpy="0 0 0" xyz="0.0 -0.041434 0.05924"/>
  <parent link="base_link"/>
  <child link="body_spacer_v13"/>
</joint>

<joint name="Rigid4" type="fixed">
  <origin rpy="0 0 0" xyz="0.0 -0.041434 0.05924"/>
  <parent link="base_link"/>
  <child link="body_spacer_v14"/>
</joint>

<joint name="Rigid5" type="fixed">
  <origin rpy="0 0 0" xyz="-1e-05 0.001603 0.073902"/>
  <parent link="base_link"/>
  <child link="body_top_plate_v11"/>
</joint>

<joint name="Rigid6" type="fixed">
  <origin rpy="0 0 0" xyz="0.045406 0.047003 0.088004"/>
  <parent link="base_link"/>
  <child link="servo_motor_v11"/>
</joint>

<joint name="Rigid7" type="fixed">
  <origin rpy="0 0 0" xyz="0.045406 0.047003 0.088004"/>
  <parent link="base_link"/>
  <child link="servo_motor_v12"/>
</joint>

<joint name="Rigid8" type="fixed">
  <origin rpy="0 0 0" xyz="0.045406 0.047003 0.088004"/>
  <parent link="base_link"/>
  <child link="servo_motor_v13"/>
</joint>

<joint name="Rigid9" type="fixed">
  <origin rpy="0 0 0" xyz="0.045406 0.047003 0.088004"/>
  <parent link="base_link"/>
  <child link="servo_motor_v14"/>
</joint>

<joint name="Rigid10" type="fixed">
  <origin rpy="0 0 0" xyz="-0.012081 -0.012081 -0.00932"/>
  <parent link="servo_motor_v11"/>
  <child link="leg_servo_retainer_v11"/>
</joint>

<joint name="Rigid11" type="fixed">
  <origin rpy="0 0 0" xyz="-0.012081 -0.012081 -0.00932"/>
  <parent link="servo_motor_v12"/>
  <child link="leg_servo_retainer_v12"/>
</joint>

<joint name="Rigid12" type="fixed">
  <origin rpy="0 0 0" xyz="-0.012081 -0.012081 -0.00932"/>
  <parent link="servo_motor_v13"/>
  <child link="leg_servo_retainer_v13"/>
</joint>

<joint name="Rigid13" type="fixed">
  <origin rpy="0 0 0" xyz="-0.012081 -0.012081 -0.00932"/>
  <parent link="servo_motor_v14"/>
  <child link="leg_servo_retainer_v14"/>
</joint>

<joint name="Rev14" type="continuous">
  <origin rpy="0 0 0" xyz="0.0 0.0 0.0"/>
  <parent link="servo_motor_v11"/>
  <child link="leg_top_pivot_plate_v11"/>
  <axis xyz="0.0 -0.0 1.0"/>
</joint>
<transmission name="Rev14_tran">
  <type>transmission_interface/SimpleTransmission</type>
  <joint name="Rev14">
    <hardwareInterface>PositionJointInterface</hardwareInterface>
  </joint>
  <actuator name="Rev14_actr">
    <hardwareInterface>PositionJointInterface</hardwareInterface>
    <mechanicalReduction>1</mechanicalReduction>
  </actuator>
</transmission>

<joint name="Rev15" type="continuous">
  <origin rpy="0 0 0" xyz="0.0 0.0 0.0"/>
  <parent link="servo_motor_v12"/>
  <child link="leg_top_pivot_plate_v12"/>
  <axis xyz="-0.0 -0.0 1.0"/>
</joint>
<transmission name="Rev15_tran">
  <type>transmission_interface/SimpleTransmission</type>
  <joint name="Rev15">
    <hardwareInterface>PositionJointInterface</hardwareInterface>
  </joint>
  <actuator name="Rev15_actr">
    <hardwareInterface>PositionJointInterface</hardwareInterface>
    <mechanicalReduction>1</mechanicalReduction>
  </actuator>
</transmission>

<joint name="Rev16" type="continuous">
  <origin rpy="0 0 0" xyz="0.0 0.0 0.0"/>
  <parent link="servo_motor_v13"/>
  <child link="leg_top_pivot_plate_v13"/>
  <axis xyz="0.0 -0.0 1.0"/>
</joint>
<transmission name="Rev16_tran">
  <type>transmission_interface/SimpleTransmission</type>
  <joint name="Rev16">
    <hardwareInterface>PositionJointInterface</hardwareInterface>
  </joint>
  <actuator name="Rev16_actr">
    <hardwareInterface>PositionJointInterface</hardwareInterface>
    <mechanicalReduction>1</mechanicalReduction>
  </actuator>
</transmission>

<joint name="Rev17" type="continuous">
  <origin rpy="0 0 0" xyz="0.0 0.0 0.0"/>
  <parent link="servo_motor_v14"/>
  <child link="leg_top_pivot_plate_v14"/>
  <axis xyz="0.0 -0.0 1.0"/>
</joint>
<transmission name="Rev17_tran">
  <type>transmission_interface/SimpleTransmission</type>
  <joint name="Rev17">
    <hardwareInterface>PositionJointInterface</hardwareInterface>
  </joint>
  <actuator name="Rev17_actr">
    <hardwareInterface>PositionJointInterface</hardwareInterface>
    <mechanicalReduction>1</mechanicalReduction>
  </actuator>
</transmission>

<joint name="Rigid18" type="fixed">
  <origin rpy="0 0 0" xyz="0.012883 0.02208 -0.011475"/>
  <parent link="leg_top_pivot_plate_v11"/>
  <child link="leg_servo_mount_v11"/>
</joint>

<joint name="Rigid19" type="fixed">
  <origin rpy="0 0 0" xyz="0.012883 0.02208 -0.011475"/>
  <parent link="leg_top_pivot_plate_v12"/>
  <child link="leg_servo_mount_v12"/>
</joint>

<joint name="Rigid20" type="fixed">
  <origin rpy="0 0 0" xyz="0.012883 0.02208 -0.011475"/>
  <parent link="leg_top_pivot_plate_v13"/>
  <child link="leg_servo_mount_v13"/>
</joint>

<joint name="Rigid21" type="fixed">
  <origin rpy="0 0 0" xyz="0.012883 0.02208 -0.011475"/>
  <parent link="leg_top_pivot_plate_v14"/>
  <child link="leg_servo_mount_v14"/>
</joint>

<joint name="Rigid22" type="fixed">
  <origin rpy="0 0 0" xyz="-0.024964 -0.034161 0.002155"/>
  <parent link="leg_servo_mount_v11"/>
  <child link="servo_motor_v15"/>
</joint>

<joint name="Rigid23" type="fixed">
  <origin rpy="0 0 0" xyz="-0.024964 -0.034161 0.002155"/>
  <parent link="leg_servo_mount_v12"/>
  <child link="servo_motor_v16"/>
</joint>

<joint name="Rigid24" type="fixed">
  <origin rpy="0 0 0" xyz="-0.024964 -0.034161 0.002155"/>
  <parent link="leg_servo_mount_v13"/>
  <child link="servo_motor_v17"/>
</joint>

<joint name="Rigid25" type="fixed">
  <origin rpy="0 0 0" xyz="-0.024964 -0.034161 0.002155"/>
  <parent link="leg_servo_mount_v14"/>
  <child link="servo_motor_v18"/>
</joint>

<joint name="Rev26" type="continuous">
  <origin rpy="0 0 0" xyz="0.040174 0.036189 -0.018807"/>
  <parent link="servo_motor_v15"/>
  <child link="leg_servo_arm_v11"/>
  <axis xyz="0.707107 -0.707107 -0.0"/>
</joint>
<transmission name="Rev26_tran">
  <type>transmission_interface/SimpleTransmission</type>
  <joint name="Rev26">
    <hardwareInterface>PositionJointInterface</hardwareInterface>
  </joint>
  <actuator name="Rev26_actr">
    <hardwareInterface>PositionJointInterface</hardwareInterface>
    <mechanicalReduction>1</mechanicalReduction>
  </actuator>
</transmission>

<joint name="Rev27" type="continuous">
  <origin rpy="0 0 0" xyz="0.03792 0.038443 -0.018807"/>
  <parent link="servo_motor_v16"/>
  <child link="leg_servo_arm_v12"/>
  <axis xyz="-0.707107 0.707107 0.0"/>
</joint>
<transmission name="Rev27_tran">
  <type>transmission_interface/SimpleTransmission</type>
  <joint name="Rev27">
    <hardwareInterface>PositionJointInterface</hardwareInterface>
  </joint>
  <actuator name="Rev27_actr">
    <hardwareInterface>PositionJointInterface</hardwareInterface>
    <mechanicalReduction>1</mechanicalReduction>
  </actuator>
</transmission>

<joint name="Rev28" type="continuous">
  <origin rpy="0 0 0" xyz="0.03792 0.038443 -0.018807"/>
  <parent link="servo_motor_v17"/>
  <child link="leg_servo_arm_v13"/>
  <axis xyz="-0.707107 -0.707107 0.0"/>
</joint>
<transmission name="Rev28_tran">
  <type>transmission_interface/SimpleTransmission</type>
  <joint name="Rev28">
    <hardwareInterface>PositionJointInterface</hardwareInterface>
  </joint>
  <actuator name="Rev28_actr">
    <hardwareInterface>PositionJointInterface</hardwareInterface>
    <mechanicalReduction>1</mechanicalReduction>
  </actuator>
</transmission>

<joint name="Rev29" type="continuous">
  <origin rpy="0 0 0" xyz="0.040174 0.036189 -0.018807"/>
  <parent link="servo_motor_v18"/>
  <child link="leg_servo_arm_v14"/>
  <axis xyz="0.707107 0.707107 -0.0"/>
</joint>
<transmission name="Rev29_tran">
  <type>transmission_interface/SimpleTransmission</type>
  <joint name="Rev29">
    <hardwareInterface>PositionJointInterface</hardwareInterface>
  </joint>
  <actuator name="Rev29_actr">
    <hardwareInterface>PositionJointInterface</hardwareInterface>
    <mechanicalReduction>1</mechanicalReduction>
  </actuator>
</transmission>

<joint name="Rev30" type="continuous">
  <origin rpy="0 0 0" xyz="0.018031 0.018031 0.0"/>
  <parent link="leg_servo_arm_v11"/>
  <child link="leg_rev_v11"/>
  <axis xyz="-0.707107 0.707107 0.0"/>
</joint>
<transmission name="Rev30_tran">
  <type>transmission_interface/SimpleTransmission</type>
  <joint name="Rev30">
    <hardwareInterface>PositionJointInterface</hardwareInterface>
  </joint>
  <actuator name="Rev30_actr">
    <hardwareInterface>PositionJointInterface</hardwareInterface>
    <mechanicalReduction>1</mechanicalReduction>
  </actuator>
</transmission>

<joint name="Rev31" type="continuous">
  <origin rpy="0 0 0" xyz="0.020285 0.015777 0.0"/>
  <parent link="leg_servo_arm_v12"/>
  <child link="leg_rev_v12"/>
  <axis xyz="-0.707107 0.707107 0.0"/>
</joint>
<transmission name="Rev31_tran">
  <type>transmission_interface/SimpleTransmission</type>
  <joint name="Rev31">
    <hardwareInterface>PositionJointInterface</hardwareInterface>
  </joint>
  <actuator name="Rev31_actr">
    <hardwareInterface>PositionJointInterface</hardwareInterface>
    <mechanicalReduction>1</mechanicalReduction>
  </actuator>
</transmission>

<joint name="Rev32" type="continuous">
  <origin rpy="0 0 0" xyz="0.020285 0.015777 0.0"/>
  <parent link="leg_servo_arm_v13"/>
  <child link="leg_rev_v13"/>
  <axis xyz="-0.707107 -0.707107 0.0"/>
</joint>
<transmission name="Rev32_tran">
  <type>transmission_interface/SimpleTransmission</type>
  <joint name="Rev32">
    <hardwareInterface>PositionJointInterface</hardwareInterface>
  </joint>
  <actuator name="Rev32_actr">
    <hardwareInterface>PositionJointInterface</hardwareInterface>
    <mechanicalReduction>1</mechanicalReduction>
  </actuator>
</transmission>

<joint name="Rev33" type="continuous">
  <origin rpy="0 0 0" xyz="0.018031 0.018031 0.0"/>
  <parent link="leg_servo_arm_v14"/>
  <child link="leg_rev_v14"/>
  <axis xyz="-0.707107 -0.707107 0.0"/>
</joint>
<transmission name="Rev33_tran">
  <type>transmission_interface/SimpleTransmission</type>
  <joint name="Rev33">
    <hardwareInterface>PositionJointInterface</hardwareInterface>
  </joint>
  <actuator name="Rev33_actr">
    <hardwareInterface>PositionJointInterface</hardwareInterface>
    <mechanicalReduction>1</mechanicalReduction>
  </actuator>
</transmission>

<joint name="Rev34" type="continuous">
  <origin rpy="0 0 0" xyz="0.045406 0.047003 0.048402"/>
  <parent link="base_link"/>
  <child link="bottom_pivot_plate_v11"/>
  <axis xyz="-0.0 -0.0 1.0"/>
</joint>
<transmission name="Rev34_tran">
  <type>transmission_interface/SimpleTransmission</type>
  <joint name="Rev34">
    <hardwareInterface>PositionJointInterface</hardwareInterface>
  </joint>
  <actuator name="Rev34_actr">
    <hardwareInterface>PositionJointInterface</hardwareInterface>
    <mechanicalReduction>1</mechanicalReduction>
  </actuator>
</transmission>

<joint name="Rev35" type="continuous">
  <origin rpy="0 0 0" xyz="0.045406 0.047003 0.048402"/>
  <parent link="base_link"/>
  <child link="bottom_pivot_plate_v12"/>
  <axis xyz="-0.0 -0.0 1.0"/>
</joint>
<transmission name="Rev35_tran">
  <type>transmission_interface/SimpleTransmission</type>
  <joint name="Rev35">
    <hardwareInterface>PositionJointInterface</hardwareInterface>
  </joint>
  <actuator name="Rev35_actr">
    <hardwareInterface>PositionJointInterface</hardwareInterface>
    <mechanicalReduction>1</mechanicalReduction>
  </actuator>
</transmission>

<joint name="Rev36" type="continuous">
  <origin rpy="0 0 0" xyz="0.045406 0.047003 0.048402"/>
  <parent link="base_link"/>
  <child link="bottom_pivot_plate_v13"/>
  <axis xyz="-0.0 -0.0 1.0"/>
</joint>
<transmission name="Rev36_tran">
  <type>transmission_interface/SimpleTransmission</type>
  <joint name="Rev36">
    <hardwareInterface>PositionJointInterface</hardwareInterface>
  </joint>
  <actuator name="Rev36_actr">
    <hardwareInterface>PositionJointInterface</hardwareInterface>
    <mechanicalReduction>1</mechanicalReduction>
  </actuator>
</transmission>

<joint name="Rev37" type="continuous">
  <origin rpy="0 0 0" xyz="0.045406 0.047003 0.048402"/>
  <parent link="base_link"/>
  <child link="bottom_pivot_plate_v14"/>
  <axis xyz="-0.0 -0.0 1.0"/>
</joint>
<transmission name="Rev37_tran">
  <type>transmission_interface/SimpleTransmission</type>
  <joint name="Rev37">
    <hardwareInterface>PositionJointInterface</hardwareInterface>
  </joint>
  <actuator name="Rev37_actr">
    <hardwareInterface>PositionJointInterface</hardwareInterface>
    <mechanicalReduction>1</mechanicalReduction>
  </actuator>
</transmission>

<joint name="Rev42" type="continuous">
  <origin rpy="0 0 0" xyz="0.0 1e-06 0.01785"/>
  <parent link="leg_rev_v11"/>
  <child link="leg_parallel_linkage_v11"/>
  <axis xyz="0.707107 -0.707107 -0.0"/>
</joint>
<transmission name="Rev42_tran">
  <type>transmission_interface/SimpleTransmission</type>
  <joint name="Rev42">
    <hardwareInterface>PositionJointInterface</hardwareInterface>
  </joint>
  <actuator name="Rev42_actr">
    <hardwareInterface>PositionJointInterface</hardwareInterface>
    <mechanicalReduction>1</mechanicalReduction>
  </actuator>
</transmission>

<joint name="Rev43" type="continuous">
  <origin rpy="0 0 0" xyz="-0.017418 -0.018645 -0.000111"/>
  <parent link="leg_parallel_linkage_v11"/>
  <child link="leg_parallel_plate_v11"/>
  <axis xyz="0.707107 -0.707107 -0.0"/>
</joint>
<transmission name="Rev43_tran">
  <type>transmission_interface/SimpleTransmission</type>
  <joint name="Rev43">
    <hardwareInterface>PositionJointInterface</hardwareInterface>
  </joint>
  <actuator name="Rev43_actr">
    <hardwareInterface>PositionJointInterface</hardwareInterface>
    <mechanicalReduction>1</mechanicalReduction>
  </actuator>
</transmission>

<joint name="Rev44" type="continuous">
  <origin rpy="0 0 0" xyz="-0.002254 0.002254 0.01785"/>
  <parent link="leg_rev_v12"/>
  <child link="leg_parallel_linkage_v12"/>
  <axis xyz="-0.707107 0.707107 0.0"/>
</joint>
<transmission name="Rev44_tran">
  <type>transmission_interface/SimpleTransmission</type>
  <joint name="Rev44">
    <hardwareInterface>PositionJointInterface</hardwareInterface>
  </joint>
  <actuator name="Rev44_actr">
    <hardwareInterface>PositionJointInterface</hardwareInterface>
    <mechanicalReduction>1</mechanicalReduction>
  </actuator>
</transmission>

<joint name="Rev45" type="continuous">
  <origin rpy="0 0 0" xyz="-0.015164 -0.020898 -0.000111"/>
  <parent link="leg_parallel_linkage_v12"/>
  <child link="leg_parallel_plate_v12"/>
  <axis xyz="0.707107 -0.707107 -0.0"/>
</joint>
<transmission name="Rev45_tran">
  <type>transmission_interface/SimpleTransmission</type>
  <joint name="Rev45">
    <hardwareInterface>PositionJointInterface</hardwareInterface>
  </joint>
  <actuator name="Rev45_actr">
    <hardwareInterface>PositionJointInterface</hardwareInterface>
    <mechanicalReduction>1</mechanicalReduction>
  </actuator>
</transmission>

<joint name="Rev46" type="continuous">
  <origin rpy="0 0 0" xyz="0.0 1e-06 0.01785"/>
  <parent link="leg_rev_v13"/>
  <child link="leg_parallel_linkage_v13"/>
  <axis xyz="-0.707107 -0.707107 0.0"/>
</joint>
<transmission name="Rev46_tran">
  <type>transmission_interface/SimpleTransmission</type>
  <joint name="Rev46">
    <hardwareInterface>PositionJointInterface</hardwareInterface>
  </joint>
  <actuator name="Rev46_actr">
    <hardwareInterface>PositionJointInterface</hardwareInterface>
    <mechanicalReduction>1</mechanicalReduction>
  </actuator>
</transmission>

<joint name="Rev47" type="continuous">
  <origin rpy="0 0 0" xyz="-0.017418 -0.018645 -0.000111"/>
  <parent link="leg_parallel_linkage_v13"/>
  <child link="leg_parallel_plate_v13"/>
  <axis xyz="-0.707107 -0.707107 0.0"/>
</joint>
<transmission name="Rev47_tran">
  <type>transmission_interface/SimpleTransmission</type>
  <joint name="Rev47">
    <hardwareInterface>PositionJointInterface</hardwareInterface>
  </joint>
  <actuator name="Rev47_actr">
    <hardwareInterface>PositionJointInterface</hardwareInterface>
    <mechanicalReduction>1</mechanicalReduction>
  </actuator>
</transmission>

<joint name="Rev48" type="continuous">
  <origin rpy="0 0 0" xyz="-0.002254 0.002254 0.01785"/>
  <parent link="leg_rev_v14"/>
  <child link="leg_parallel_linkage_v14"/>
  <axis xyz="0.707107 0.707107 -0.0"/>
</joint>
<transmission name="Rev48_tran">
  <type>transmission_interface/SimpleTransmission</type>
  <joint name="Rev48">
    <hardwareInterface>PositionJointInterface</hardwareInterface>
  </joint>
  <actuator name="Rev48_actr">
    <hardwareInterface>PositionJointInterface</hardwareInterface>
    <mechanicalReduction>1</mechanicalReduction>
  </actuator>
</transmission>

<joint name="Rev49" type="continuous">
  <origin rpy="0 0 0" xyz="-0.015164 -0.020898 -0.000111"/>
  <parent link="leg_parallel_linkage_v14"/>
  <child link="leg_parallel_plate_v14"/>
  <axis xyz="-0.707107 -0.707107 0.0"/>
</joint>
<transmission name="Rev49_tran">
  <type>transmission_interface/SimpleTransmission</type>
  <joint name="Rev49">
    <hardwareInterface>PositionJointInterface</hardwareInterface>
  </joint>
  <actuator name="Rev49_actr">
    <hardwareInterface>PositionJointInterface</hardwareInterface>
    <mechanicalReduction>1</mechanicalReduction>
  </actuator>
</transmission>

</robot>
